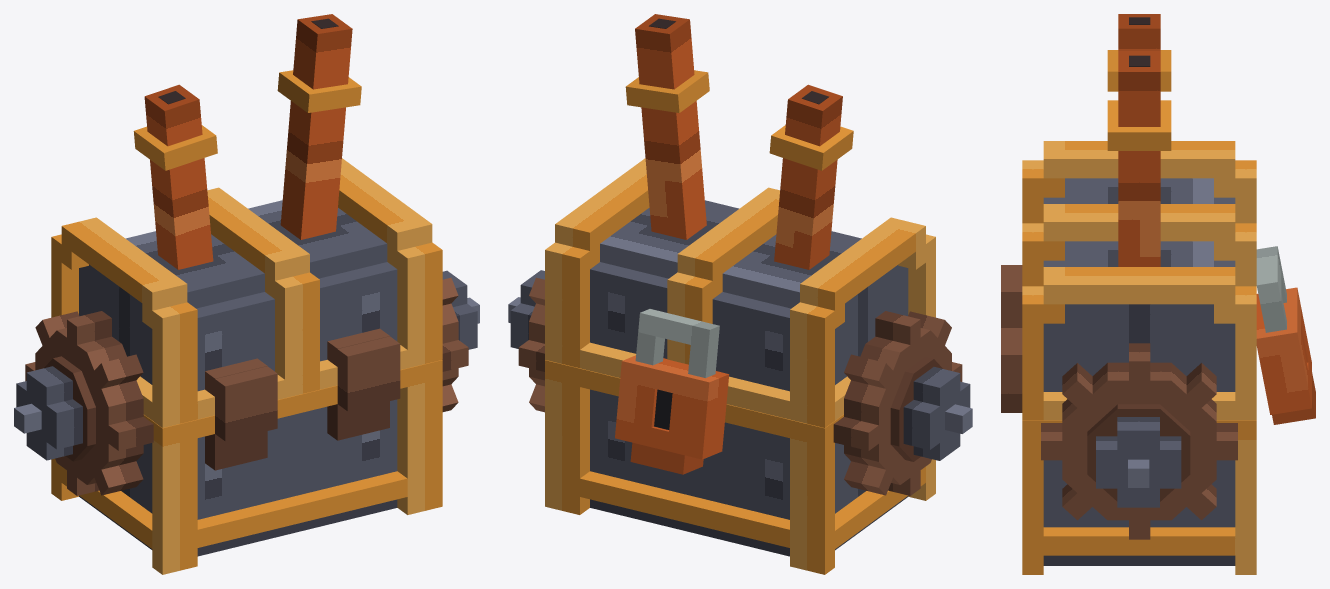
3 views of the same model, side by side, from view 1: azimuth 30°, elevation 25°; view 2: azimuth 150°, elevation 25°; view 3: azimuth 270°, elevation 25° (orthographic). The views are drawn at different scales.
Parts seen in each view (by area): view 1: Top-Local, Bottom-Local, tube_1-Local, tube_1$$(1)-Local, center$$(1)-Local, side_2$$(1)-Local, side_3$$(1)-Local, tube_2$$(1)-Local, side_1$$(1)-Local, tube_2-Local, side_4$$(1)-Local, center-Local (+6 smaller); view 2: Top-Local, Bottom-Local, tube_1-Local, lock_1-Local, tube_1$$(1)-Local, center$$(1)-Local, lock_2-Local, side_8$$(1)-Local, side_7$$(1)-Local, tube_2$$(1)-Local, tube_2-Local, side_1$$(1)-Local (+9 smaller); view 3: Top-Local, Bottom-Local, tube_1-Local, center-Local, lock_1-Local, side_1-Local, side_2-Local, side_8-Local, tube_2-Local, side_3-Local, side_7-Local, lock_2-Local (+9 smaller).
Part boxes in pixels (x1,y1,x2,y2): Top-Local: [51, 158, 442, 427]; Bottom-Local: [51, 336, 442, 574]; tube_1-Local: [280, 14, 352, 239]; tube_1$$(1)-Local: [144, 84, 213, 269]; center$$(1)-Local: [16, 366, 82, 460]; side_2$$(1)-Local: [76, 344, 143, 418]; side_3$$(1)-Local: [91, 395, 153, 461]; tube_2$$(1)-Local: [133, 91, 217, 170]; side_1$$(1)-Local: [57, 311, 121, 383]; tube_2-Local: [277, 18, 361, 112]; side_4$$(1)-Local: [79, 430, 143, 495]; center-Local: [442, 270, 477, 349]; Top-Local: [545, 158, 935, 427]; Bottom-Local: [545, 360, 935, 574]; tube_1-Local: [635, 14, 706, 239]; lock_1-Local: [615, 355, 729, 474]; tube_1$$(1)-Local: [774, 84, 842, 269]; center$$(1)-Local: [903, 367, 970, 460]; lock_2-Local: [635, 309, 719, 377]; side_8$$(1)-Local: [844, 344, 900, 418]; side_7$$(1)-Local: [833, 395, 895, 461]; tube_2$$(1)-Local: [769, 91, 853, 170]; tube_2-Local: [625, 18, 709, 112]; side_1$$(1)-Local: [866, 311, 930, 382]; Top-Local: [1022, 141, 1256, 420]; Bottom-Local: [1001, 265, 1256, 574]; tube_1-Local: [1118, 51, 1160, 266]; center-Local: [1096, 417, 1181, 507]; lock_1-Local: [1256, 287, 1315, 424]; side_1-Local: [1107, 343, 1171, 413]; side_2-Local: [1146, 363, 1216, 444]; side_8-Local: [1062, 363, 1132, 441]; tube_2-Local: [1107, 55, 1171, 150]; side_3-Local: [1180, 421, 1237, 479]; side_7-Local: [1041, 421, 1097, 479]; lock_2-Local: [1256, 246, 1286, 332].
Bounding box in the file's own units: 26 × 25.05 × 14.78.
45 materials, 45 textured.
